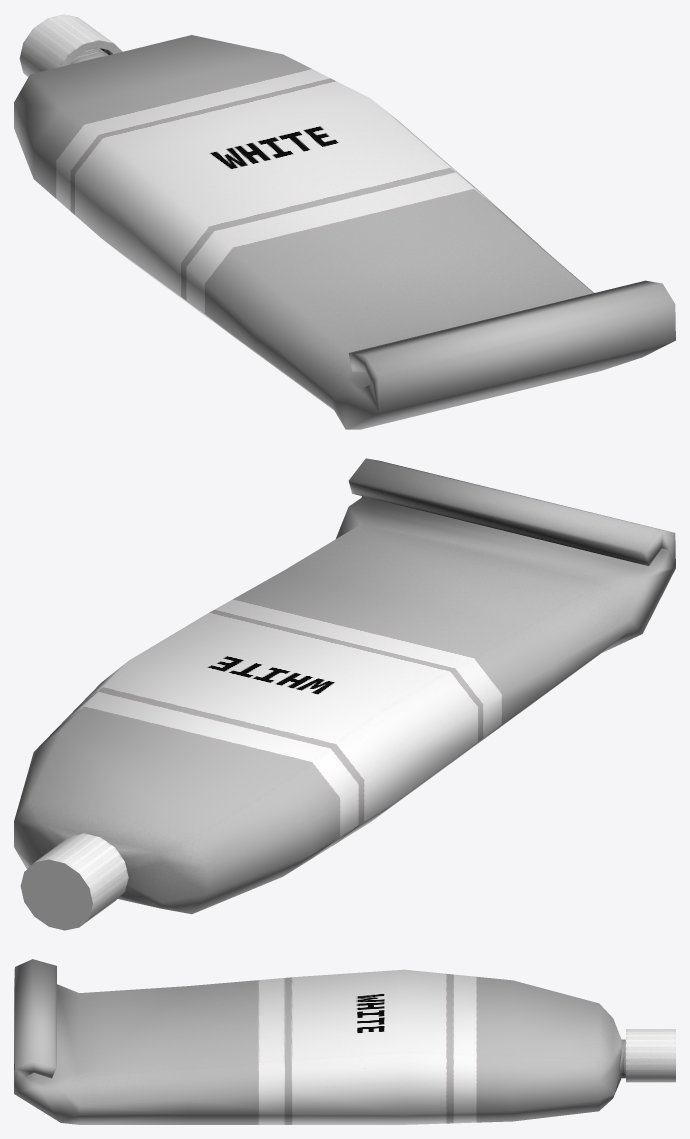
The model's file is paint_08.fbx.
3 renders of one model, top to bottom at view 1: azimuth 30°, elevation 25°; view 2: azimuth 150°, elevation 25°; view 3: azimuth 270°, elevation 25°, orthographic. The views are drawn at different scales.
Parts seen in each view (by area): view 1: paint_08, paint_08.lid; view 2: paint_08, paint_08.lid; view 3: paint_08, paint_08.lid.
Part boxes in pixels (box(x1,y1,x2,y2)): paint_08: box(14, 35, 675, 429); paint_08.lid: box(19, 14, 122, 76); paint_08: box(14, 458, 675, 914); paint_08.lid: box(20, 833, 128, 930); paint_08: box(14, 959, 625, 1124); paint_08.lid: box(626, 1029, 675, 1082).
Bounding box in the file's own units: 11.6 × 3.91 × 31.88.
